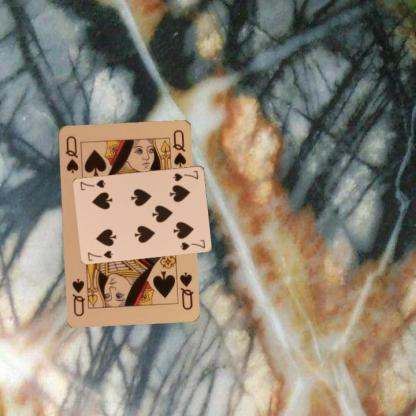7s: (85, 248, 114, 262), (171, 168, 199, 182)
Qs: (177, 269, 195, 311), (62, 133, 80, 174)
